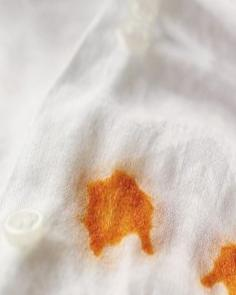stain: (77, 167, 160, 257), (199, 240, 236, 295)
